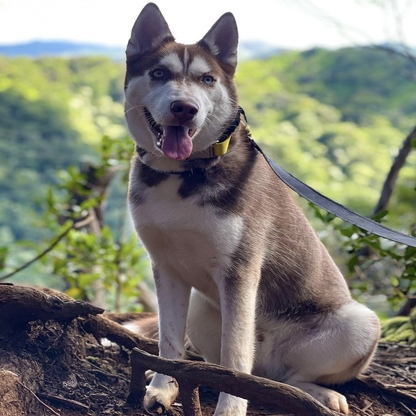husky: (110, 1, 387, 416)
